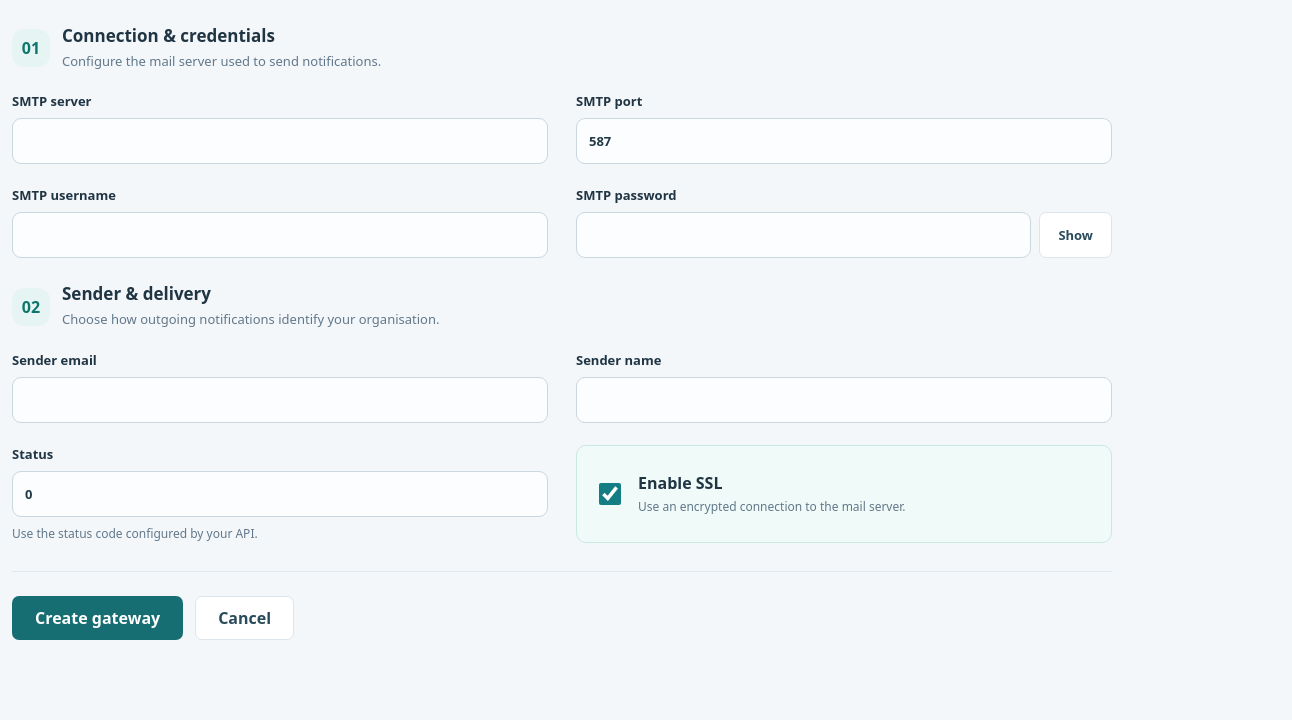
it: notification gateway management › submits numeric and boolean fields and preserves user input after an API failure
The image size is (1292, 720).
Type "smtp.example.test" into the field labelled "SMTP server".
click(280, 141); type("smtp.example.test")  # box [12,118,548,164]
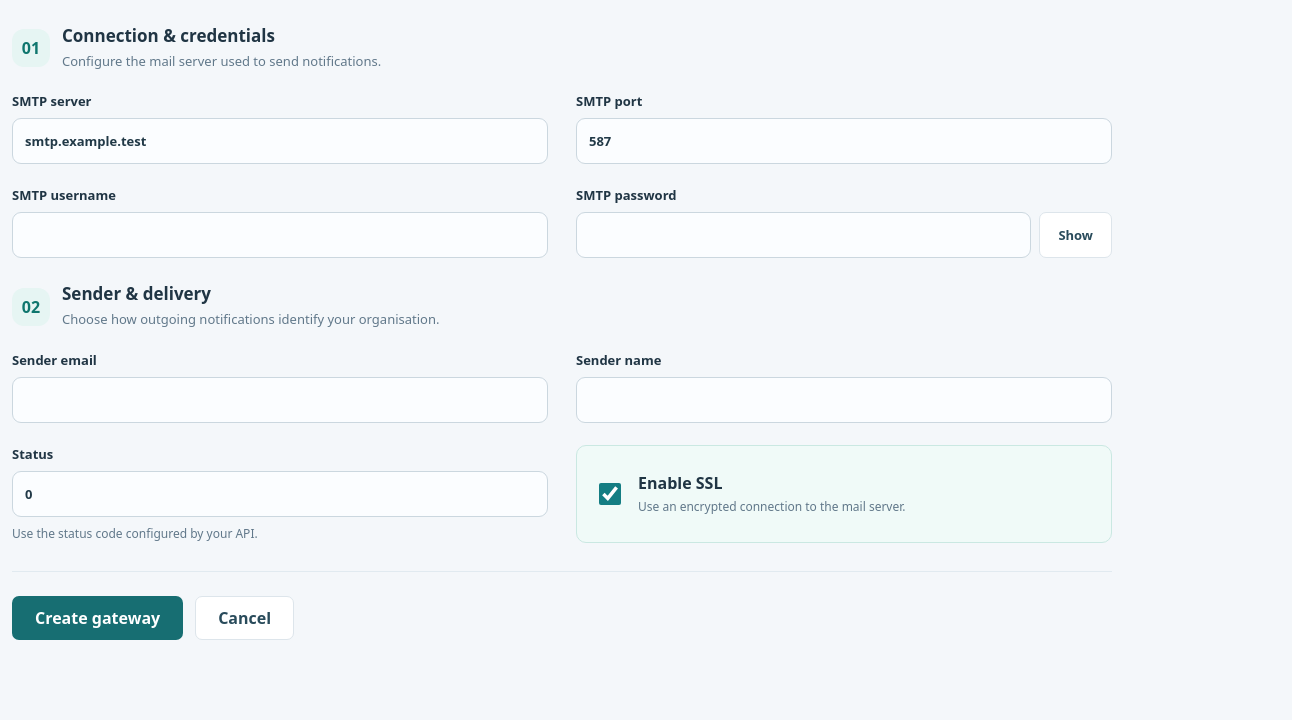
Type "sender@example.test" into the field labelled "Sender email".
click(280, 400); type("sender@example.test")  # box [12,377,548,423]
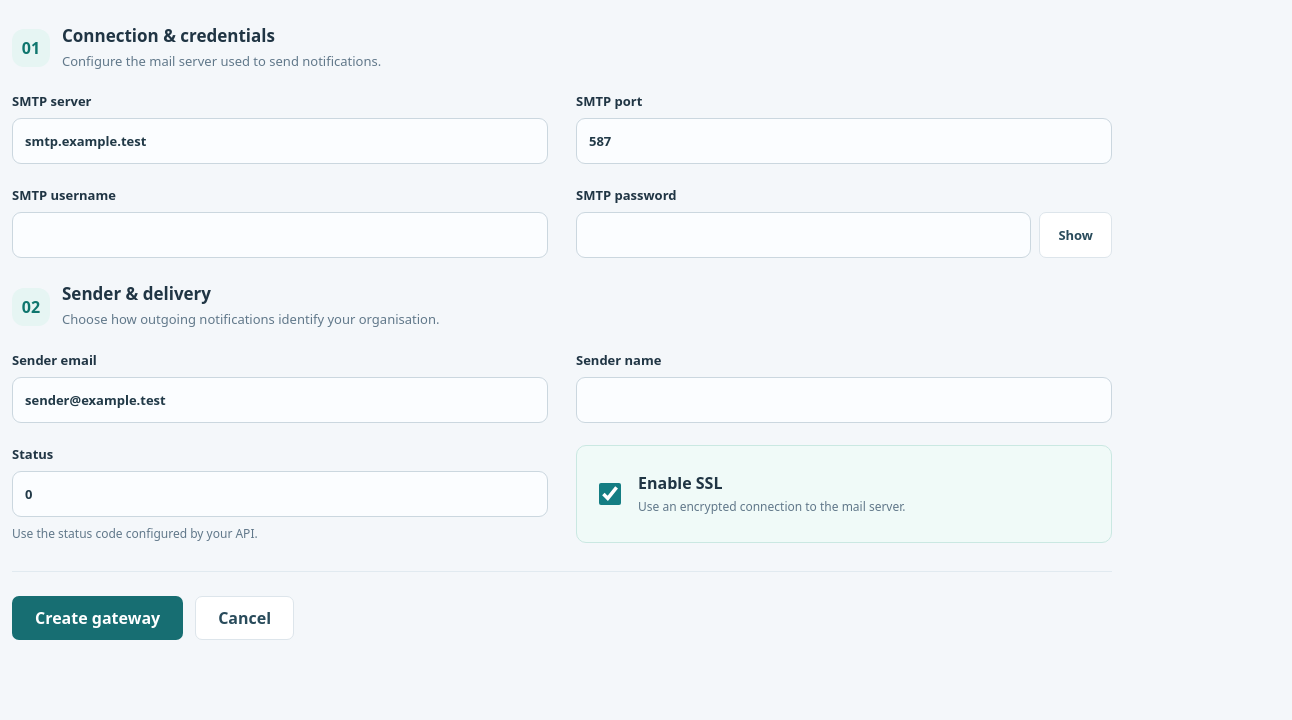
Click the button "Create gateway".
click(98, 618)  # box [12,596,183,640]
(page scrolled)
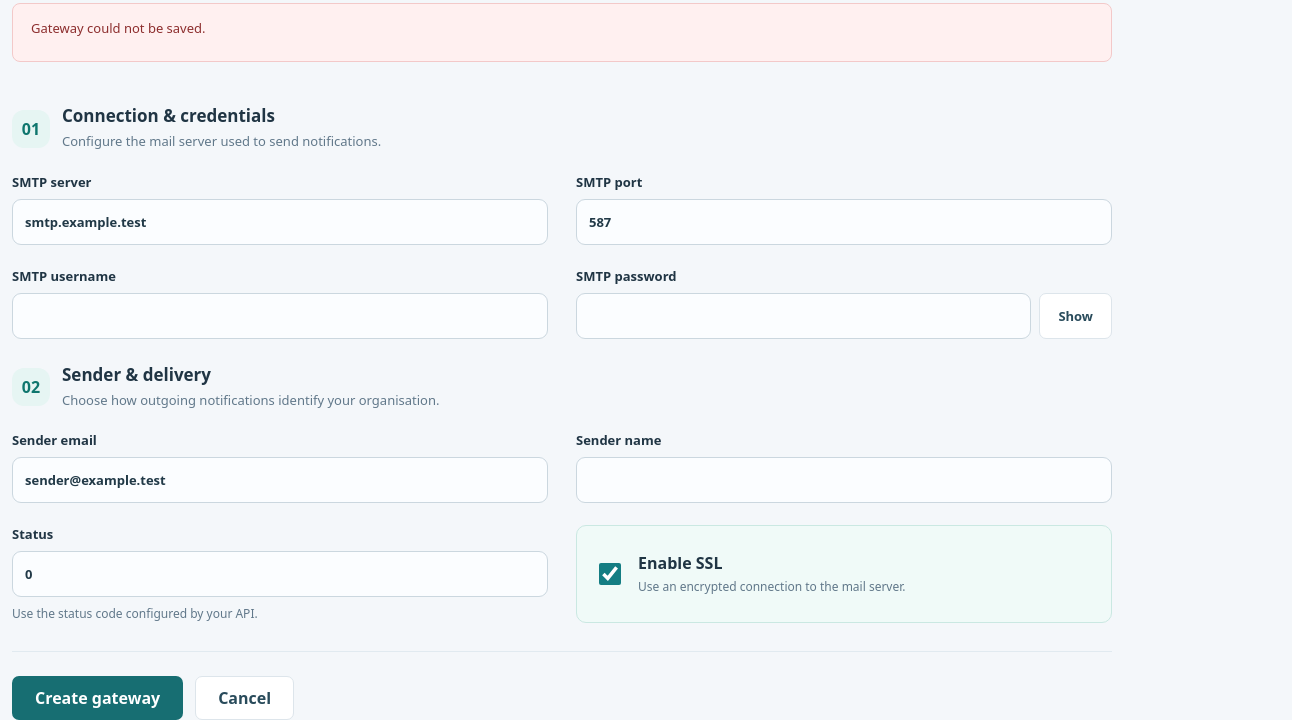
Expected: the button "Create gateway" is enabled, [12,676,183,719]
Expected: the message "Gateway could not be saved." is shown, [12,3,1112,62]
